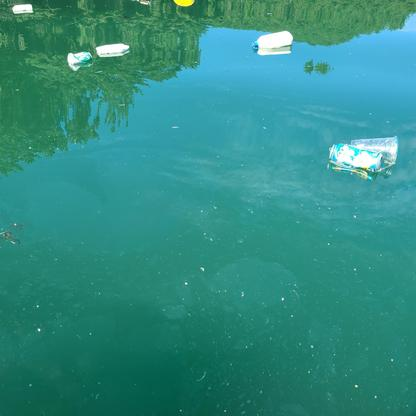can: (323, 141, 385, 175), (66, 49, 92, 64)
foam: (96, 43, 129, 54)
plastic bottle: (250, 31, 294, 51)
